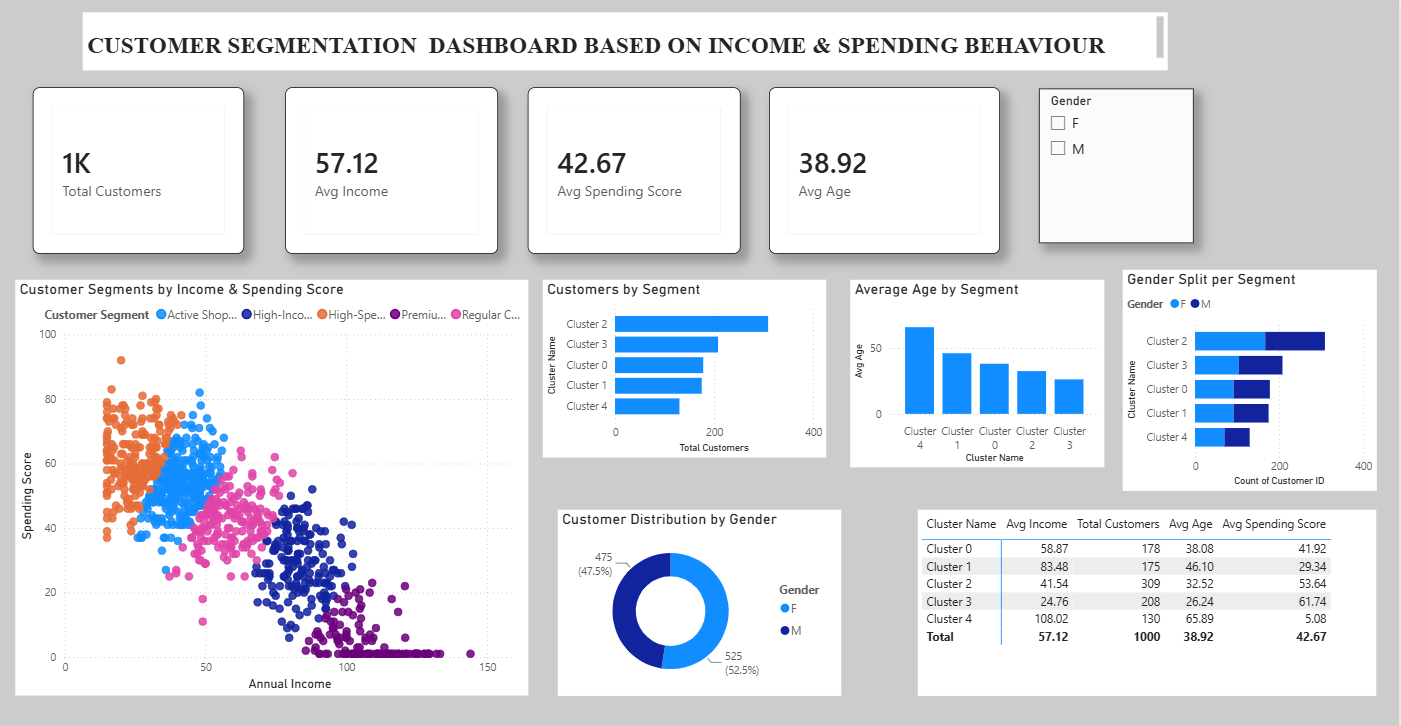

Layout of this report page (visuals, bound fields, positions):
{"tool":"powerbi","page":{"name":"Page 1","canvas":[1600,850],"ordinal":0},"visuals":[{"type":"cardVisual","fields":{"Data":["clustered_customers (2).Avg Age"]},"box":[880,104.3,264.3,190],"z":0},{"type":"cardVisual","fields":{"Data":["clustered_customers (2).Total Customers"]},"box":[38.6,104.3,241.4,190],"z":1000},{"type":"cardVisual","fields":{"Data":["clustered_customers (2).Avg Income"]},"box":[327.1,104.3,242.9,190],"z":2000},{"type":"cardVisual","fields":{"Data":["clustered_customers (2).Avg Spending Score"]},"box":[604.3,104.3,242.9,190],"z":3000},{"type":"scatterChart","title":"Customer Segments by Income & Spending Score","fields":{"X":["Sum(clustered_customers (2).Annual Income ($k))"],"Y":["Sum(clustered_customers (2).Spending Score)"],"Category":["clustered_customers (2).Customer ID"],"Series":["clustered_customers (2).Customer Segment"]},"box":[18.3,325,586.7,475],"z":4000},{"type":"donutChart","title":"Customer Distribution by Gender","fields":{"Category":["clustered_customers (2).Gender"],"Y":["clustered_customers (2).Total Customers"]},"box":[638.6,587.1,324.3,212.9],"z":5000},{"type":"clusteredBarChart","title":"Customers by Segment","fields":{"Category":["clustered_customers (2).Cluster Name"],"Y":["clustered_customers (2).Total Customers"]},"box":[621.4,324.3,324.3,202.9],"z":6000},{"type":"clusteredColumnChart","title":"Average Age by Segment","fields":{"Category":["clustered_customers (2).Cluster Name"],"Y":["clustered_customers (2).Avg Age"]},"box":[972.9,324.3,290,214.3],"z":7000},{"type":"slicer","fields":{"Values":["clustered_customers (2).Gender"]},"box":[1188.3,105,176.7,176.7],"z":8000},{"type":"textbox","box":[18.8,16.2,858.8,55],"z":9000},{"type":"pivotTable","fields":{"Rows":["clustered_customers (2).Cluster Name"],"Values":["clustered_customers (2).Avg Income","clustered_customers (2).Total Customers","clustered_customers (2).Avg Age","clustered_customers (2).Avg Spending Score"]},"box":[1050,587.1,524.3,212.9],"z":9001},{"type":"barChart","title":"Gender Split per Segment","fields":{"Category":["clustered_customers (2).Cluster Name"],"Series":["clustered_customers (2).Gender"],"Y":["CountNonNull(clustered_customers (2).Customer ID)"]},"box":[1284.3,312.9,290,252.9],"z":9002}]}

Visuals, with their boxes in screenshot pixels (x1, y1, x2, y2), scaled from the page's 1600x850 canvas onto the 1401x726 screenshot:
cardVisual - clustered_customers (2).Avg Age: [left=771, top=89, right=1002, bottom=251]
cardVisual - clustered_customers (2).Total Customers: [left=34, top=89, right=245, bottom=251]
cardVisual - clustered_customers (2).Avg Income: [left=286, top=89, right=499, bottom=251]
cardVisual - clustered_customers (2).Avg Spending Score: [left=529, top=89, right=742, bottom=251]
"Customer Segments by Income & Spending Score" scatterChart: [left=16, top=278, right=530, bottom=683]
"Customer Distribution by Gender" donutChart: [left=559, top=501, right=843, bottom=683]
"Customers by Segment" clusteredBarChart: [left=544, top=277, right=828, bottom=450]
"Average Age by Segment" clusteredColumnChart: [left=852, top=277, right=1106, bottom=460]
slicer - clustered_customers (2).Gender: [left=1041, top=90, right=1195, bottom=241]
textbox: [left=16, top=14, right=768, bottom=61]
pivotTable - clustered_customers (2).Cluster Name x clustered_customers (2).Avg Income: [left=919, top=501, right=1378, bottom=683]
"Gender Split per Segment" barChart: [left=1125, top=267, right=1378, bottom=483]
